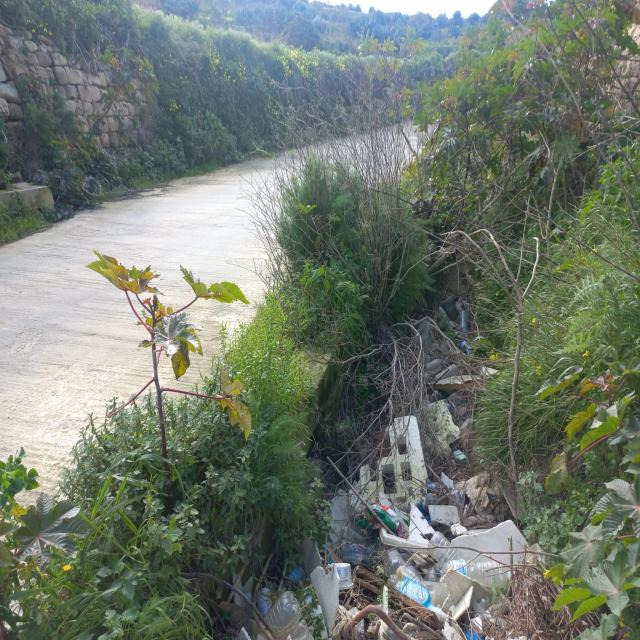Bottle: (436, 559, 507, 588), (263, 590, 303, 640), (426, 530, 467, 568), (376, 534, 405, 578), (337, 540, 382, 568), (285, 618, 316, 640), (448, 486, 466, 521), (256, 587, 272, 617), (285, 565, 306, 584), (245, 591, 254, 619), (387, 574, 402, 590), (460, 341, 474, 356), (460, 311, 468, 336), (427, 482, 439, 490)
Other litter: (329, 605, 412, 640), (427, 365, 498, 389), (303, 537, 322, 578), (423, 581, 448, 607), (335, 562, 355, 590), (432, 364, 459, 381), (443, 294, 459, 321), (418, 503, 430, 521), (426, 359, 443, 371), (430, 390, 440, 397), (446, 403, 453, 413)
Other plastic: (325, 489, 373, 546), (357, 491, 410, 539), (397, 577, 449, 623), (395, 552, 441, 585), (233, 572, 254, 609), (466, 626, 487, 640), (452, 449, 468, 465)
Styrofoam piece: (349, 415, 428, 514), (449, 519, 529, 573), (380, 503, 435, 555), (440, 568, 492, 622), (310, 562, 341, 637), (375, 585, 389, 639), (428, 505, 462, 526), (450, 524, 490, 536), (471, 599, 492, 621), (441, 624, 467, 640), (441, 471, 454, 489), (236, 626, 251, 640), (471, 615, 483, 632), (508, 636, 529, 639), (486, 637, 495, 640)
